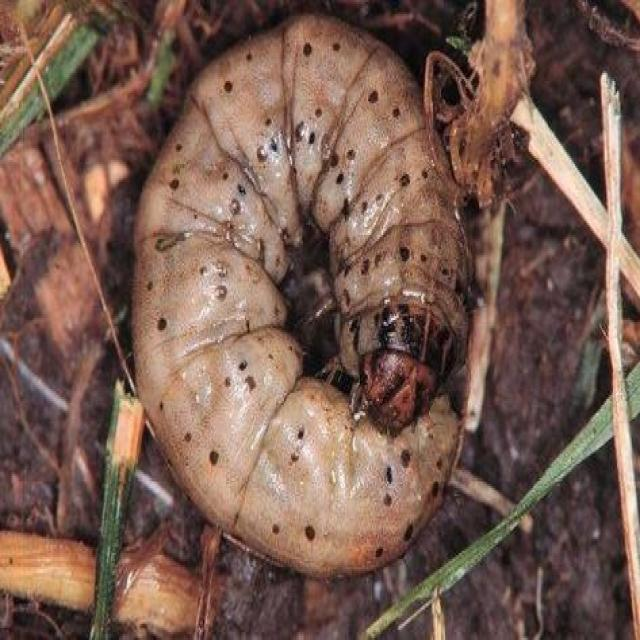black cutworm: (110, 15, 512, 574)
